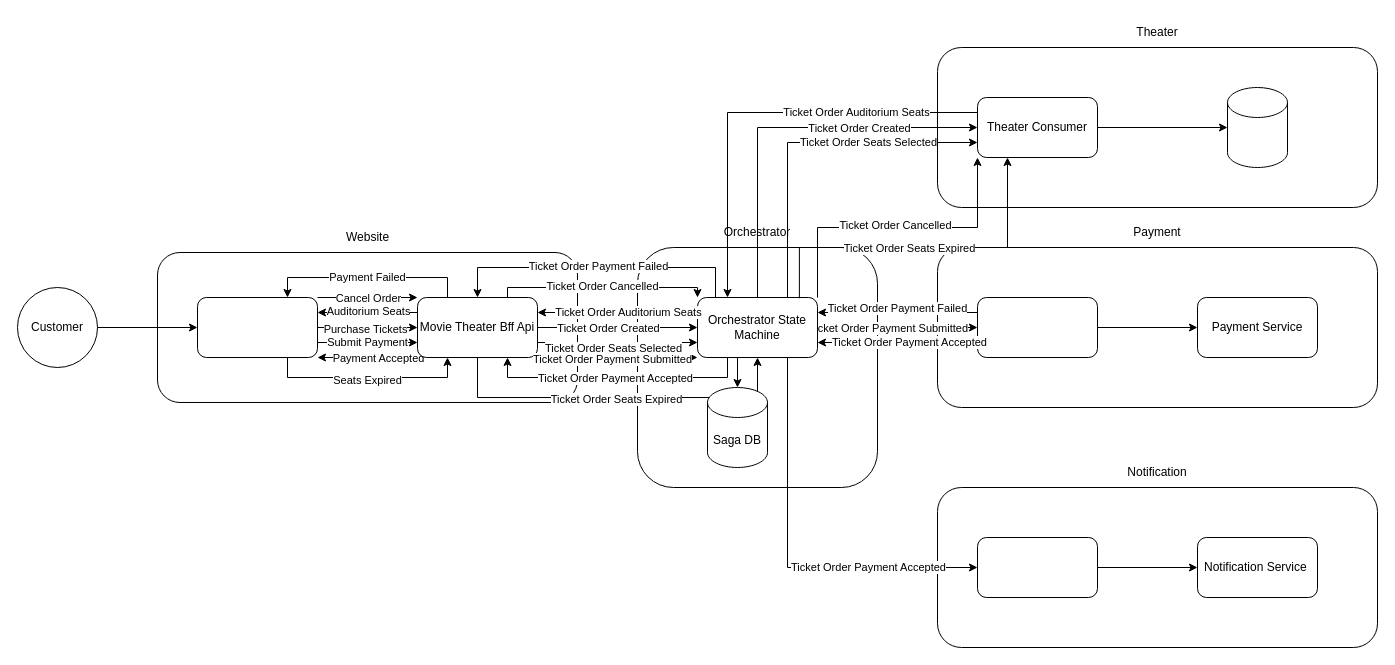
The diagram is 1395 pixels wide and 665 high, and some of its shapes have lost their labels. Here are the shapes that lost their labels. From the top down, the centre of each, then its label:
At (x=1257, y=127): "Theater DB".
At (x=257, y=327): "Movie Theater Web App".
At (x=1037, y=327): "Payment Api".
At (x=1037, y=567): "Notification Api".
